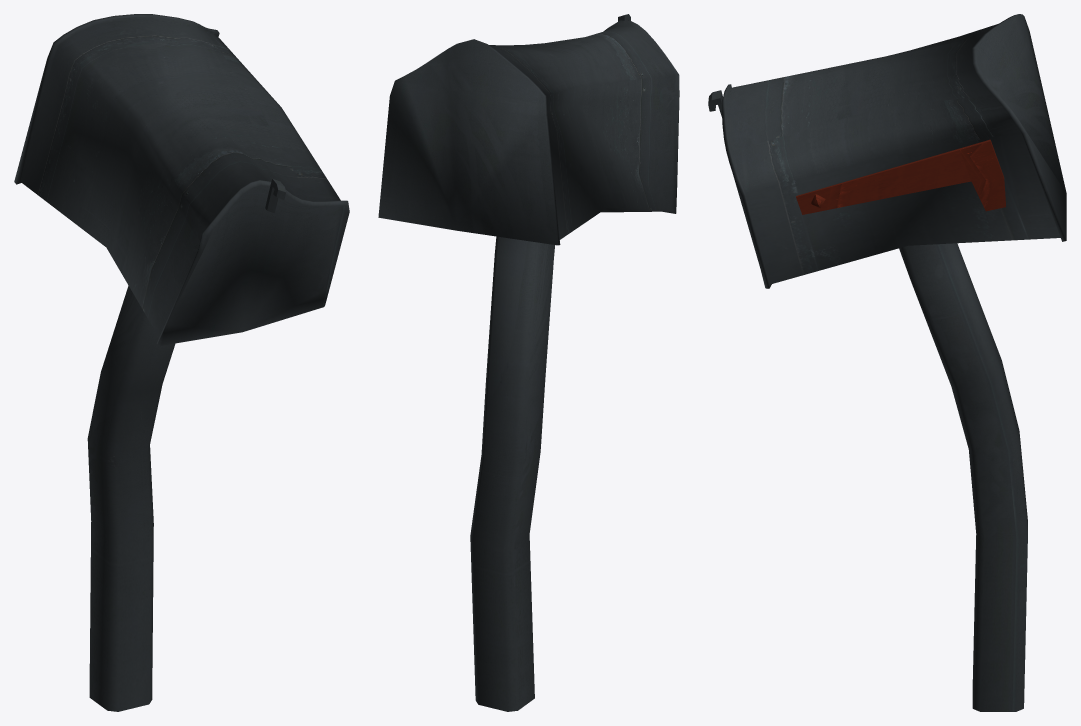
Rendered from Mailbox.fbx.
3 renders of one model, left to right at view 1: azimuth 30°, elevation 25°; view 2: azimuth 150°, elevation 25°; view 3: azimuth 270°, elevation 25°, orthographic. The views are drawn at different scales.
Parts seen in each view (by area): view 1: Box; view 2: Box; view 3: Box, Extra.
Part boxes in pixels (<box>): Box: <box>14,14,349,711</box>; Box: <box>378,14,679,711</box>; Box: <box>708,14,1066,711</box>; Extra: <box>796,139,1005,214</box>.
Size of the model in its own units: 215 by 731 by 349.
